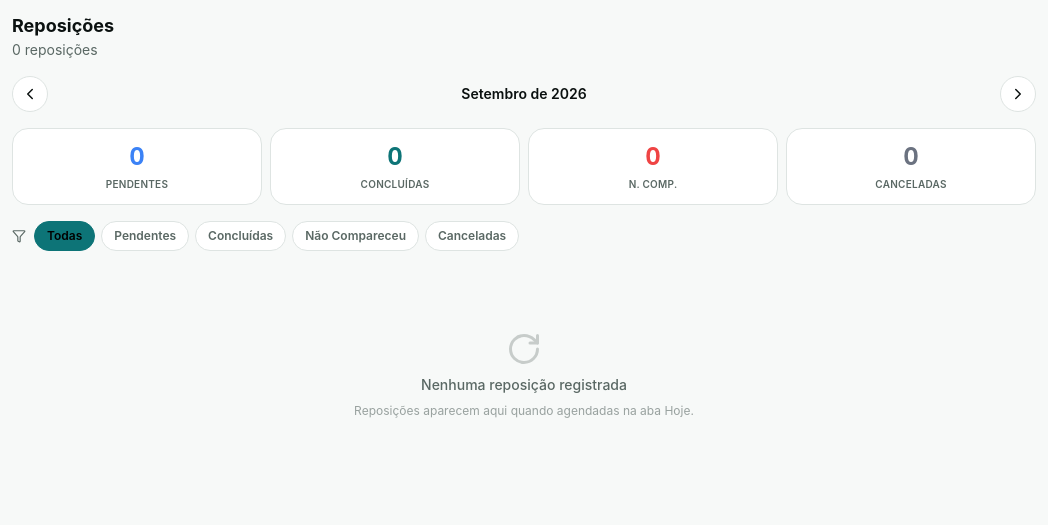
ReposicoesView — filtros e navegação de mês › reposição fora do mês corrente fica oculta até navegar para o mês dela
This screenshot has width=1048, height=525.
Expected: the button "Setembro de 2026" is shown, [461,84,587,104]
Expected: the text "Rodrigo" is not shown
Click the button named "Próximo mês": coordinates (1018, 94) [1000,76,1036,112]
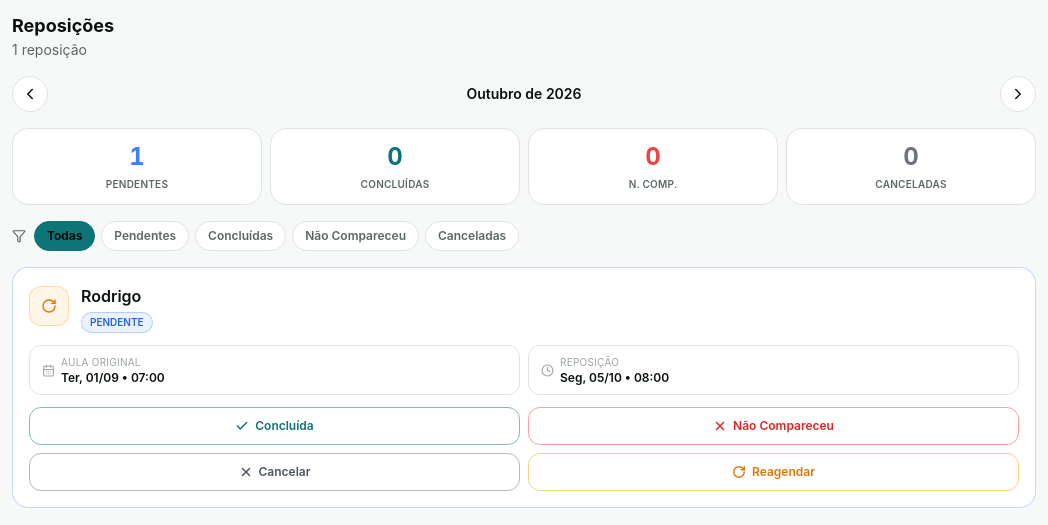
Expected: the button "Outubro de 2026" is shown, [466,84,582,104]
Expected: the text "Rodrigo" is shown, [81,286,141,306]
